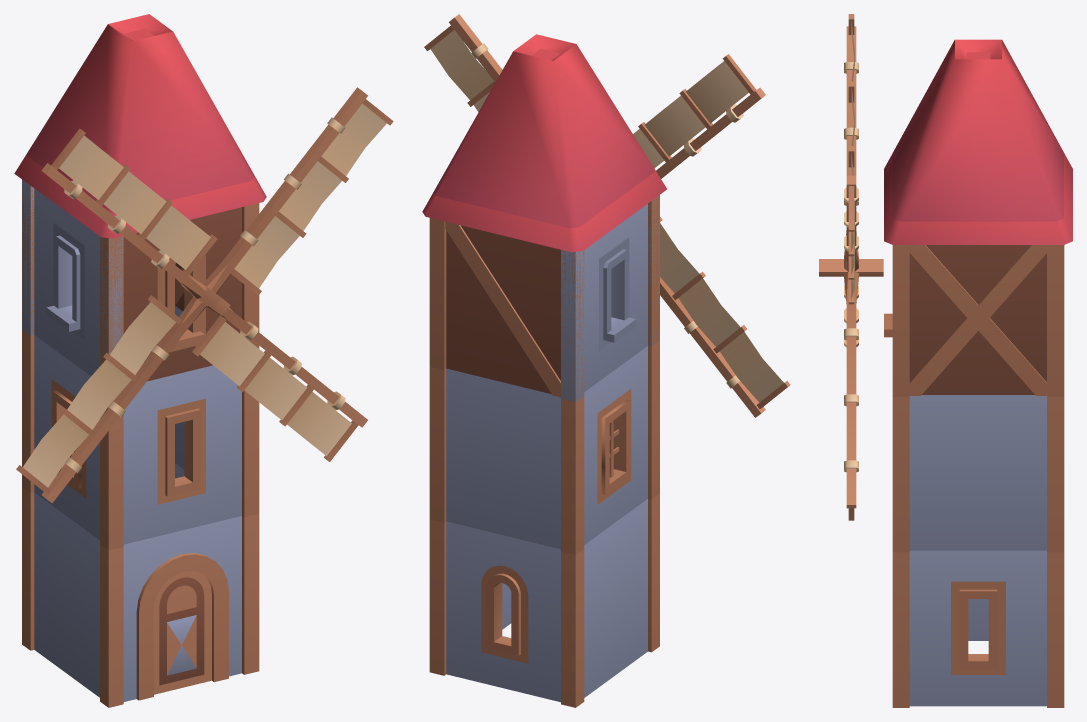
File: windmill.glb
3 views of the same model, side by side, from view 1: azimuth 30°, elevation 25°; view 2: azimuth 150°, elevation 25°; view 3: azimuth 270°, elevation 25° (orthographic). The views are drawn at different scales.
Visible parts, largest first — view 1: windmill_body, sails_mesh; view 2: windmill_body, sails_mesh; view 3: windmill_body, sails_mesh.
Boxes of the visible parts, left/top/right/bottom form: windmill_body: left=14, top=14, right=266, bottom=707; sails_mesh: left=16, top=87, right=393, bottom=503; windmill_body: left=422, top=34, right=666, bottom=707; sails_mesh: left=424, top=14, right=790, bottom=417; windmill_body: left=884, top=39, right=1072, bottom=707; sails_mesh: left=819, top=14, right=883, bottom=520.
Bounding box in the file's own units: 2.49 × 4 × 1.48.
1 material, 1 textured.
